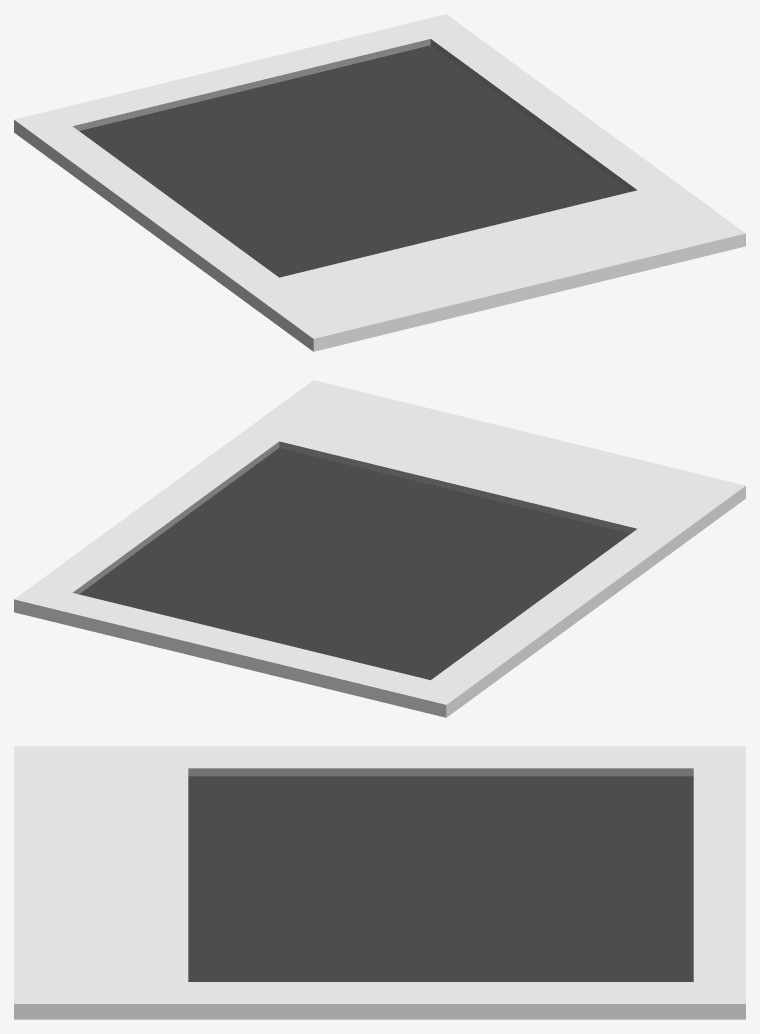
Rendered from polaroid.gltf.
3 views of the same model, one above another, from view 1: azimuth 30°, elevation 25°; view 2: azimuth 150°, elevation 25°; view 3: azimuth 270°, elevation 25° (orthographic). The views are drawn at different scales.
Visible parts, largest first — view 1: picture, bottom (×2), top (×2), left (×2), right (×2); view 2: picture, bottom (×2), top (×2), left (×2), right (×2); view 3: picture, bottom, right (×2), left (×2), top.
Boxes of the visible parts, box(x1,y1,x2,y2) form: picture: box(79, 45, 630, 277); bottom (×2): box(242, 181, 745, 351); top (×2): box(14, 14, 467, 135); left (×2): box(14, 120, 313, 351); right (×2): box(430, 30, 674, 191); picture: box(79, 448, 630, 680); bottom (×2): box(243, 380, 745, 537); top (×2): box(14, 584, 467, 717); left (×2): box(431, 486, 745, 717); right (×2): box(35, 432, 279, 594); picture: box(188, 776, 693, 981); bottom: box(14, 746, 188, 1003); right (×2): box(14, 982, 745, 1019); left (×2): box(188, 746, 693, 776); top: box(693, 746, 745, 1003).
Size of the model in its own units: 2.19 by 0.0625 by 2.62.
1 material, 1 textured.
